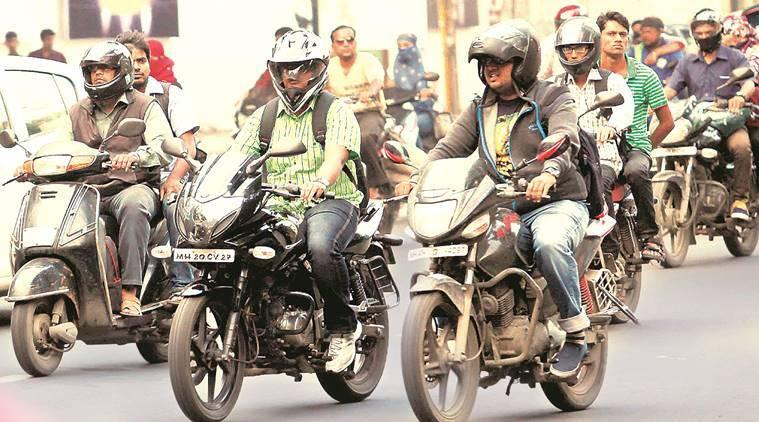Helmet: (250, 27, 327, 139), (467, 20, 547, 87), (557, 16, 600, 49), (603, 247, 619, 261)
